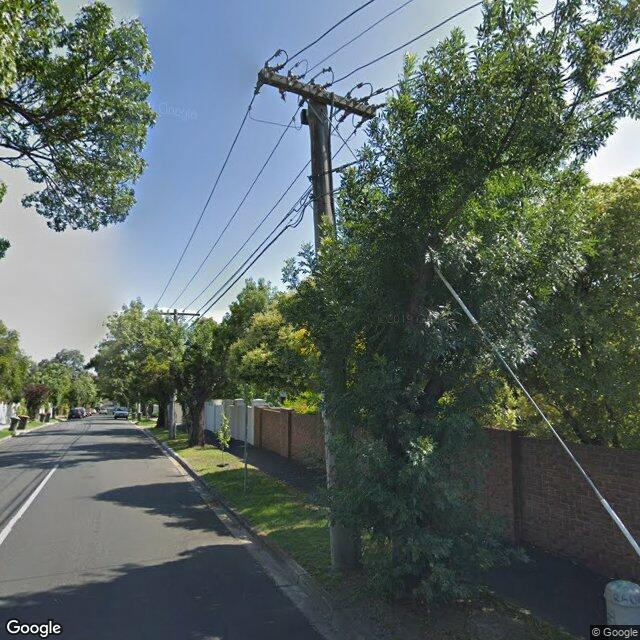crossarm: (258, 70, 375, 119), (156, 312, 200, 316)
timber-pole: (308, 94, 361, 571), (169, 309, 177, 439)
